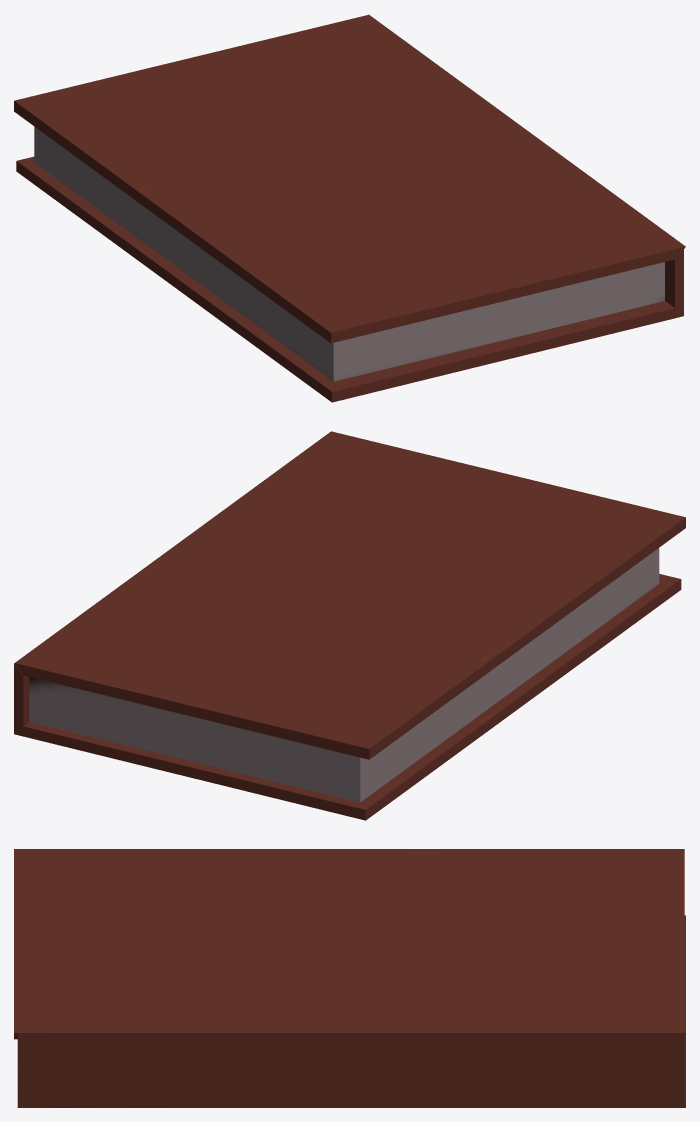
File: Book.glb
The picture shows the model from 3 angles, top to bottom: view 1: azimuth 30°, elevation 25°; view 2: azimuth 150°, elevation 25°; view 3: azimuth 270°, elevation 25°; orthographic projection. The views are drawn at different scales.
Visible parts, largest first — view 1: Cube.012; view 2: Cube.012; view 3: Cube.012.
Part boxes in pixels (x1=…): Cube.012: x1=14, y1=14, x2=685, y2=402; Cube.012: x1=14, y1=431, x2=685, y2=820; Cube.012: x1=14, y1=849, x2=685, y2=1107.
Size of the model in its own units: 0.4389 by 0.085 by 0.6796.
Materials: 1 (1 with a texture image).
